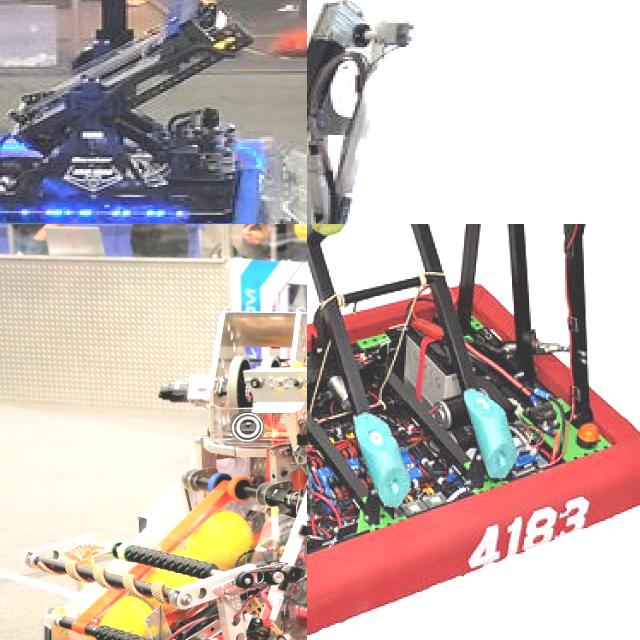FRC-Robots: (307, 224, 640, 640), (0, 311, 307, 640), (0, 0, 307, 224), (307, 15, 507, 224)
